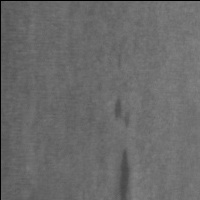inclusion: (116, 147, 137, 200), (111, 93, 135, 131)
